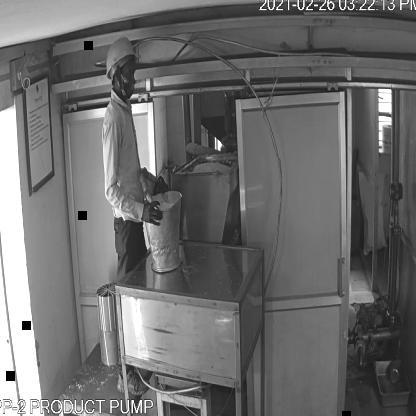helmet: (99, 37, 145, 78)
